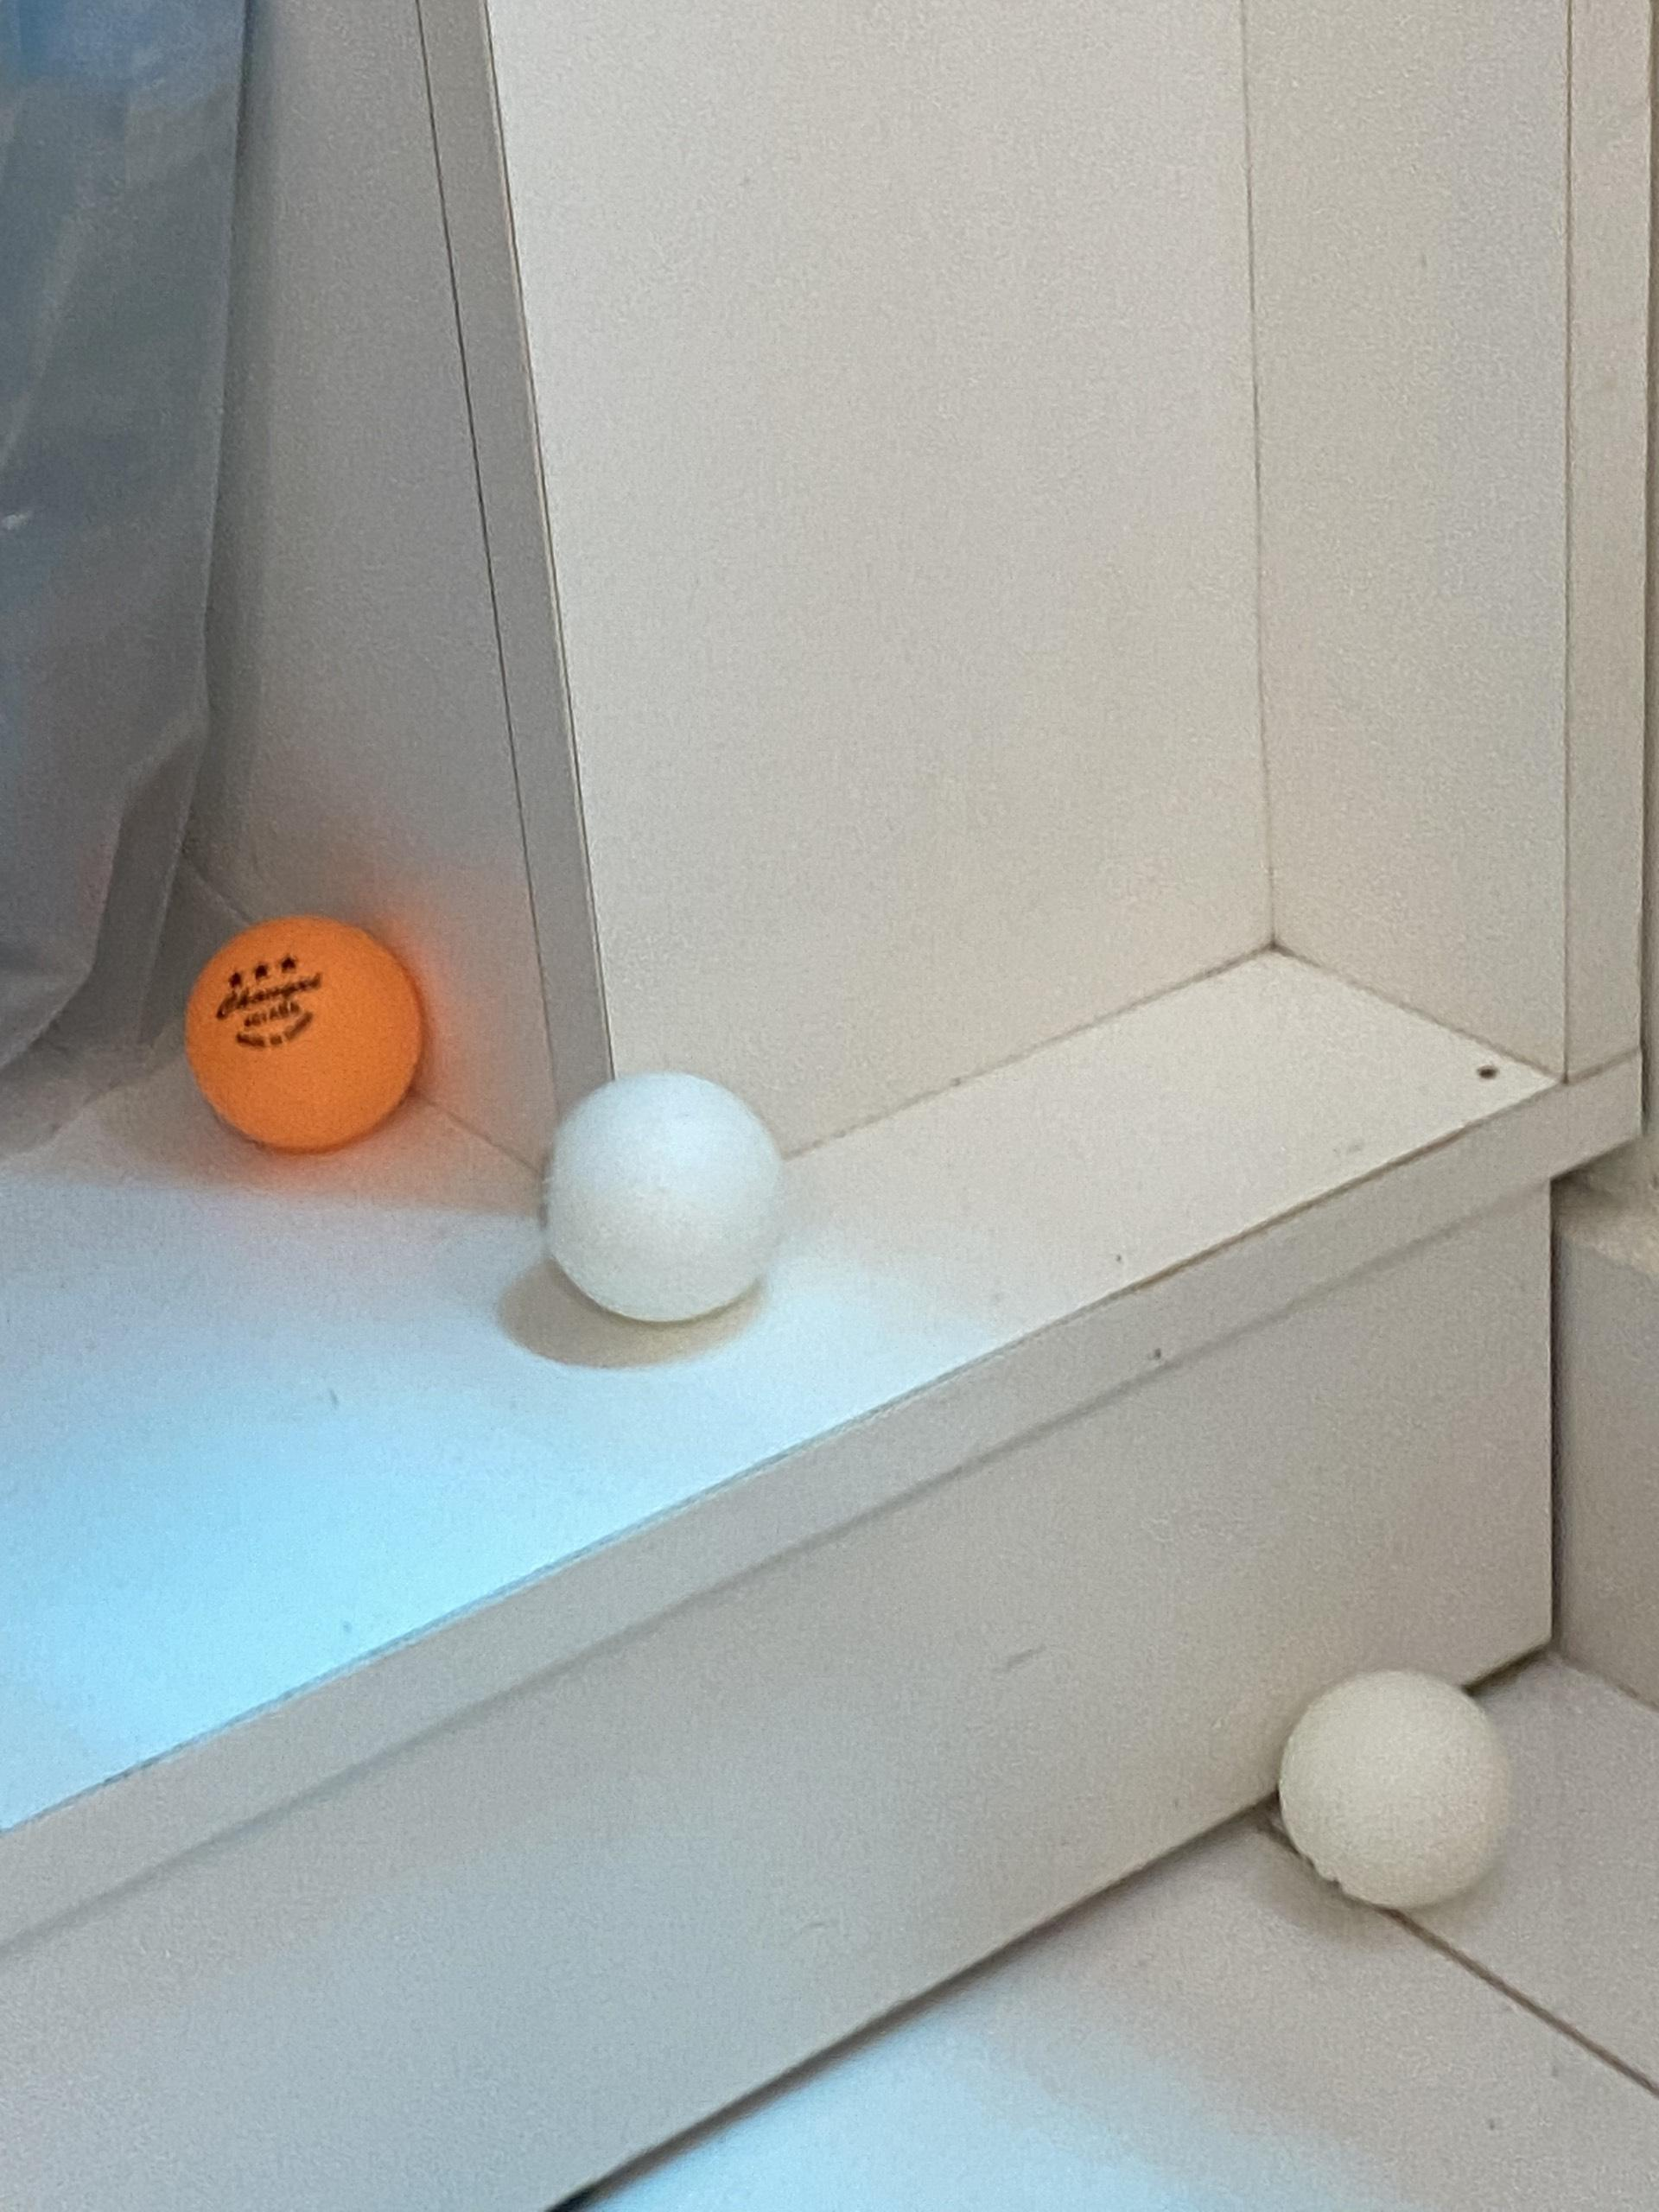oball: (186, 916, 420, 1146)
